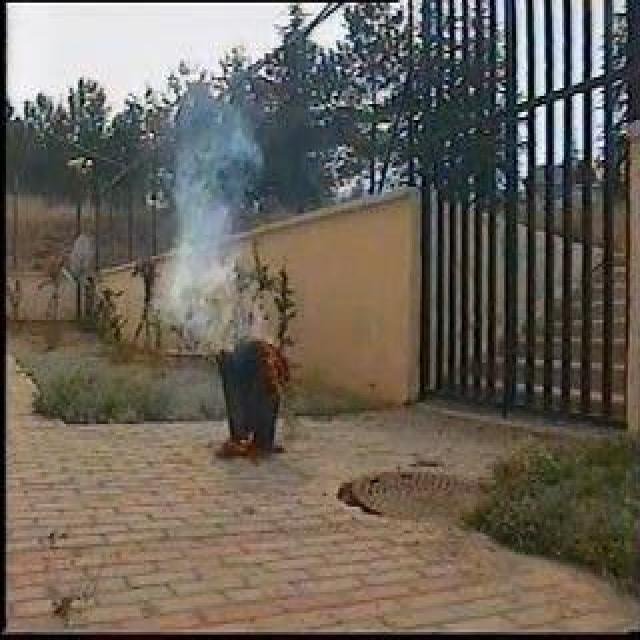fire: (259, 327, 295, 385)
smoke: (162, 102, 262, 326)
